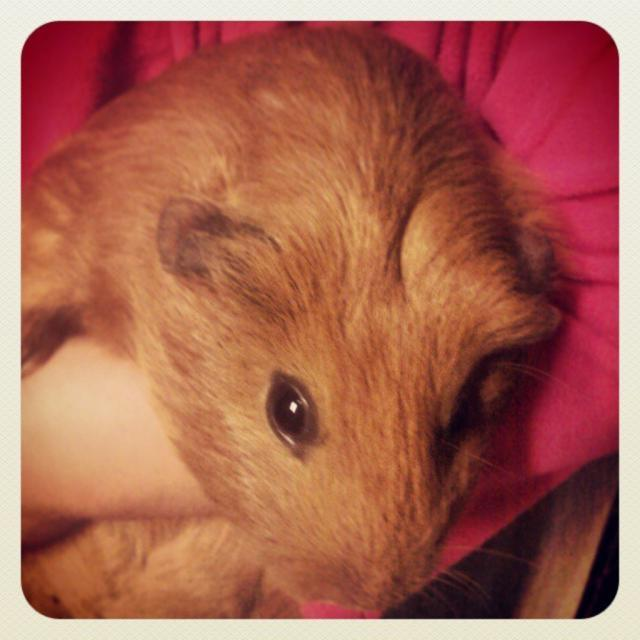rat: (20, 26, 562, 617)
